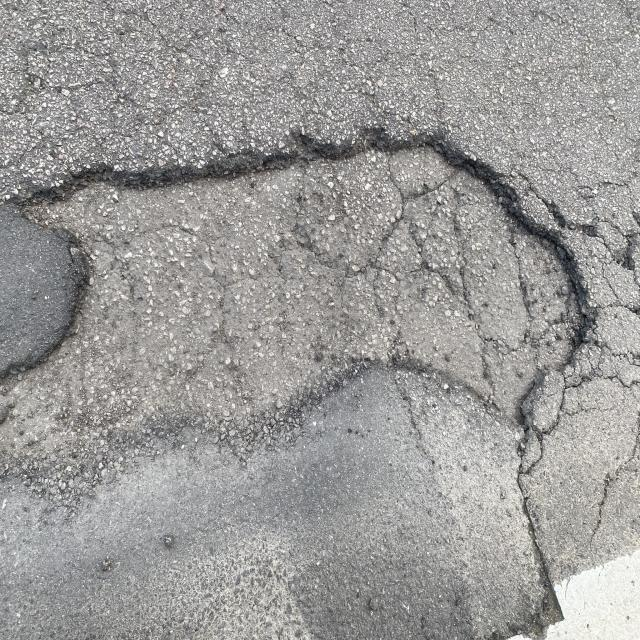pothole: (0, 81, 640, 481)
